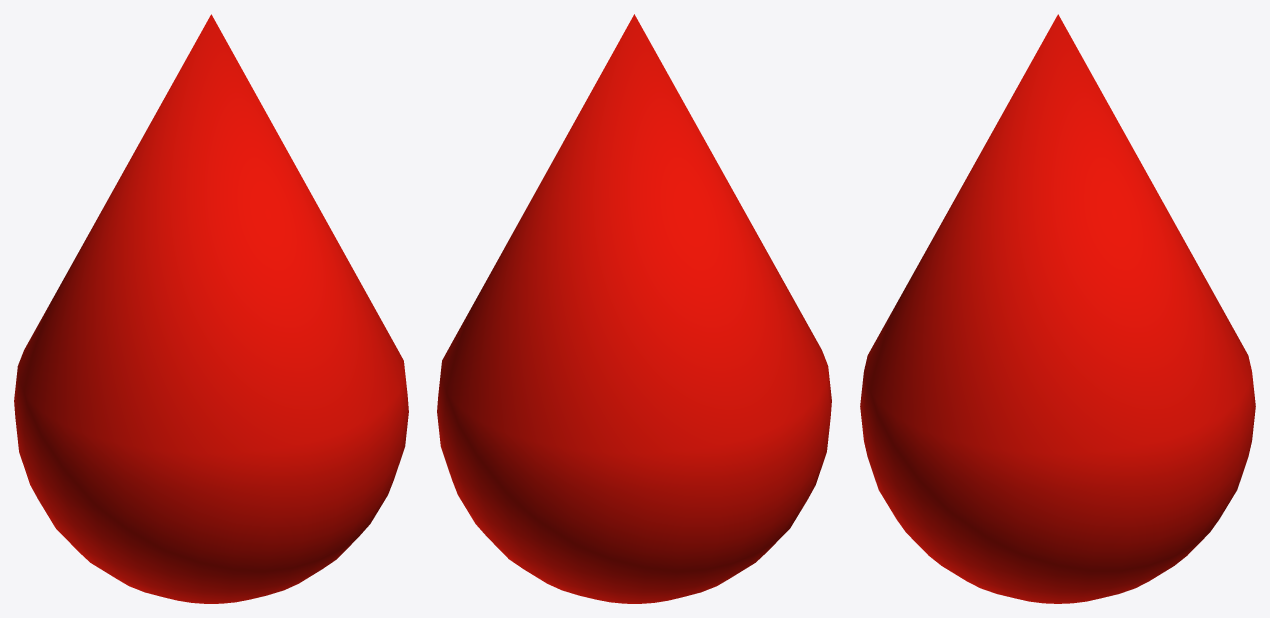
File: goccia_ketcup.fbx
3 renders of one model, left to right at view 1: azimuth 30°, elevation 25°; view 2: azimuth 150°, elevation 25°; view 3: azimuth 270°, elevation 25°, orthographic.
Visible parts, largest first — view 1: goccia_ketchup; view 2: goccia_ketchup; view 3: goccia_ketchup.
Part boxes in pixels (box(x1,y1,x2,y2)): goccia_ketchup: box(14, 14, 408, 603); goccia_ketchup: box(437, 14, 831, 603); goccia_ketchup: box(860, 14, 1255, 603).
Size of the model in its own units: 200 by 319 by 200.
